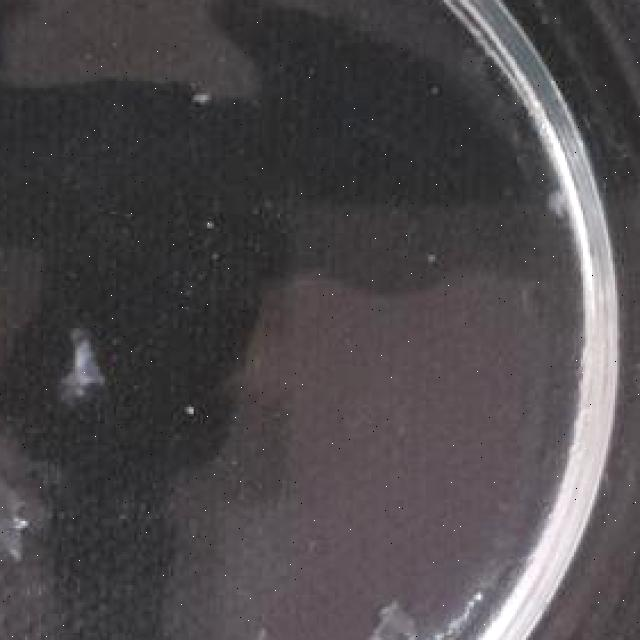Microplastic: (0, 442, 57, 574), (36, 322, 114, 416)
